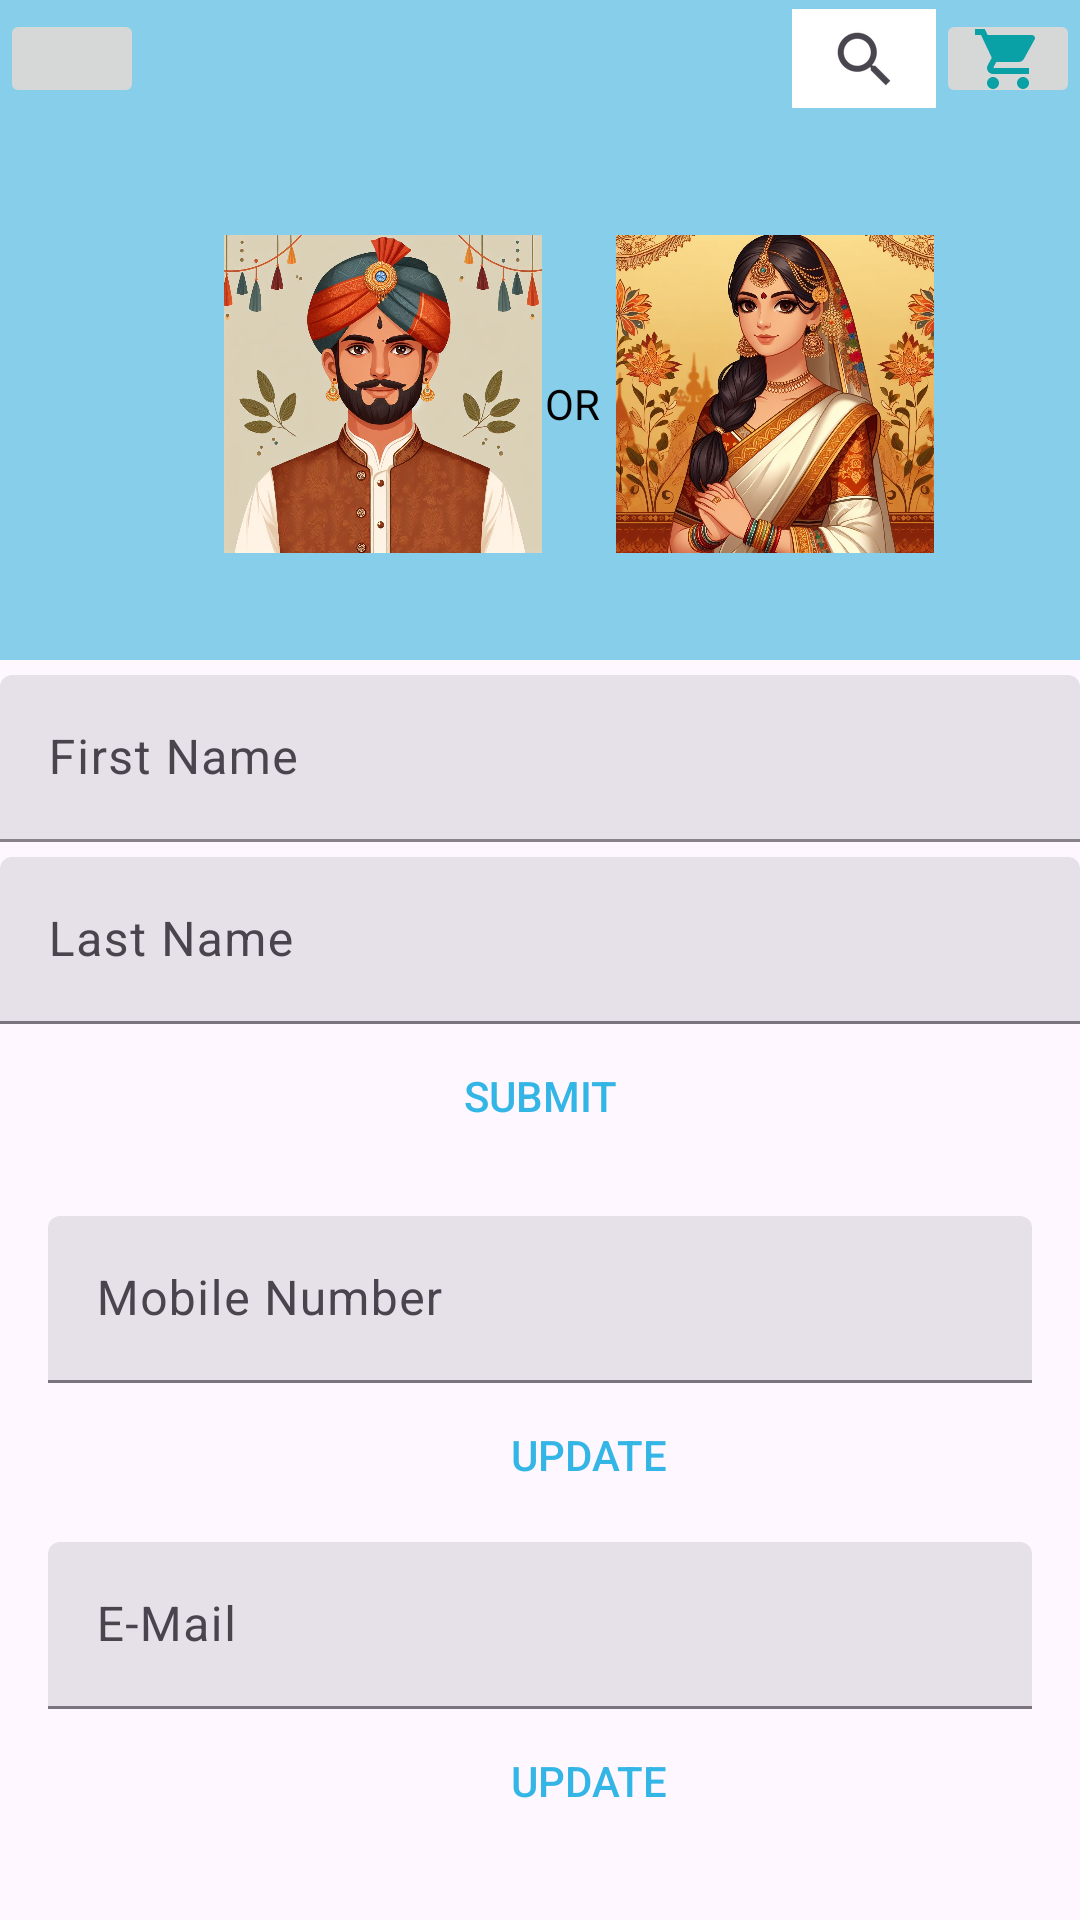

Icons on this 1080px×1920px Android screen, each with the point to tap as point (x, y):
shopping cart: point (1008, 58)
